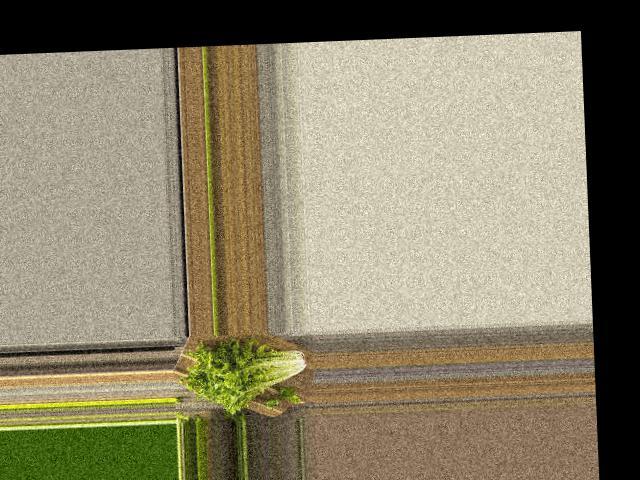lettuce: (184, 335, 314, 414)
